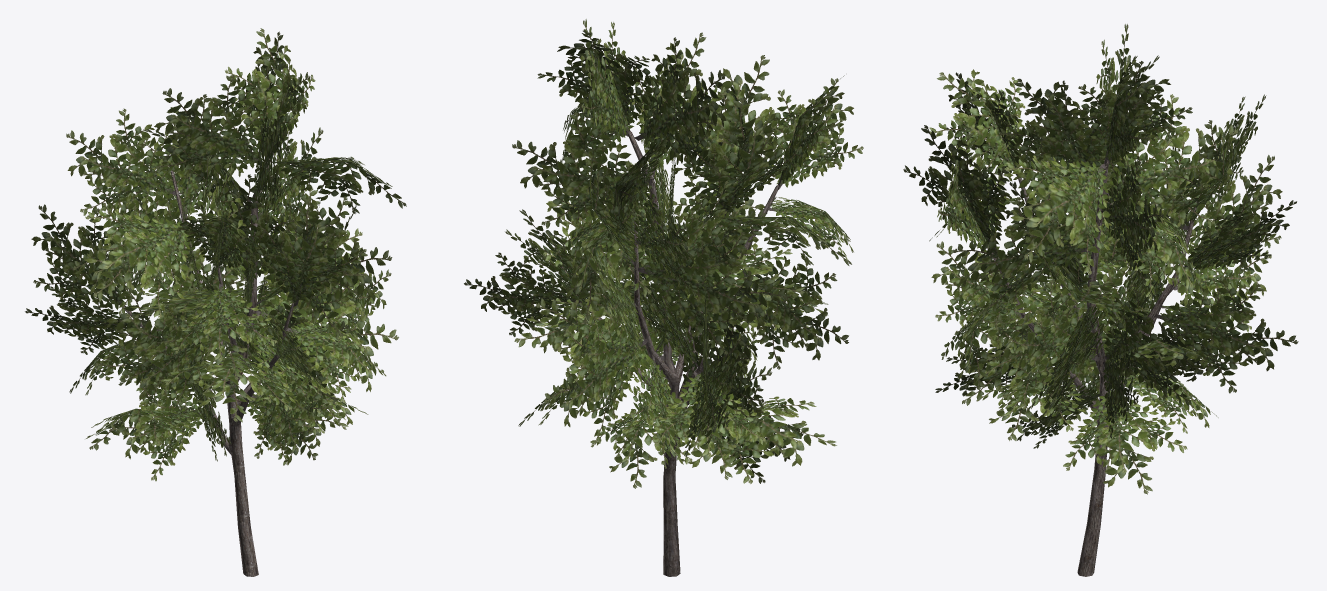
The model's file is Plant-4.fbx.
The picture shows the model from 3 angles, left to right: view 1: azimuth 30°, elevation 25°; view 2: azimuth 150°, elevation 25°; view 3: azimuth 270°, elevation 25°; orthographic projection. The views are drawn at different scales.
Parts seen in each view (by area): view 1: tree_model_final; view 2: tree_model_final; view 3: tree_model_final.
Part boxes in pixels (x1,y1,x2,y2): tree_model_final: (25, 28, 406, 576); tree_model_final: (464, 19, 863, 576); tree_model_final: (903, 24, 1298, 576).
Bounding box in the file's own units: 21.83 × 30.76 × 21.1.
